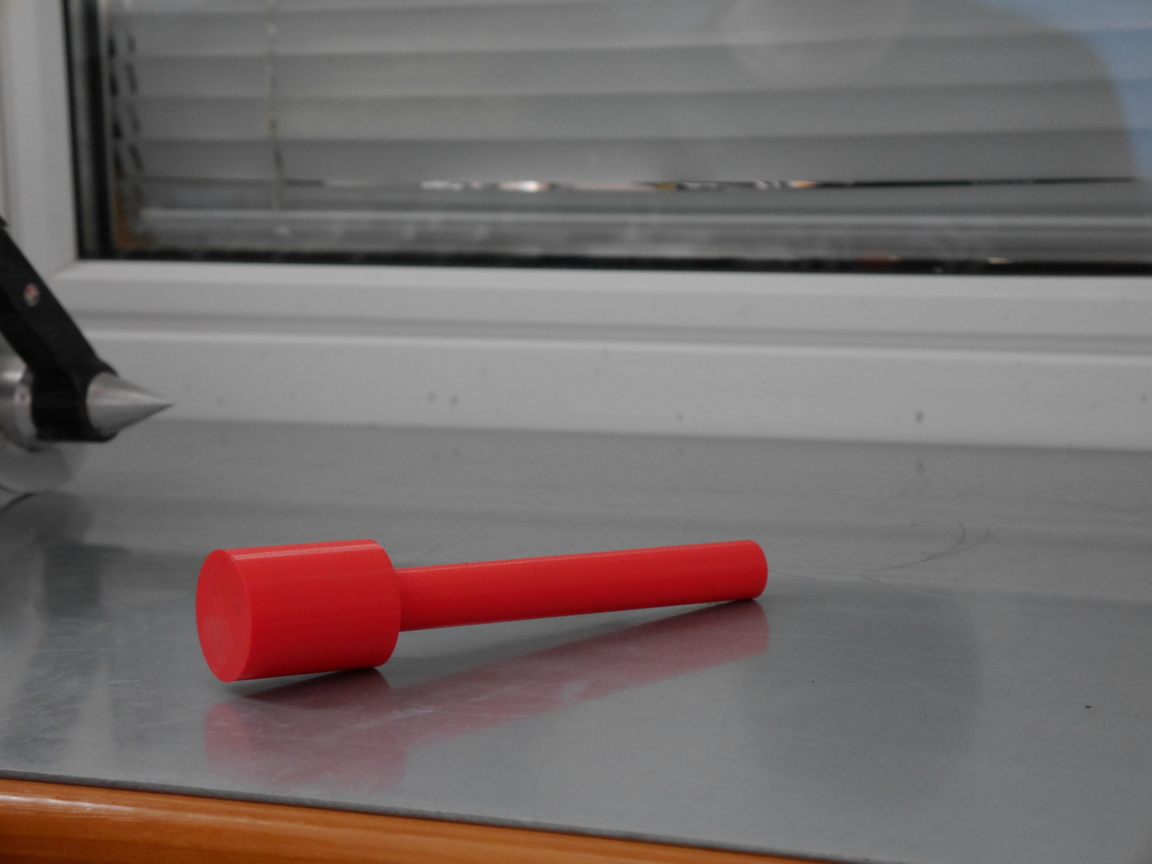cargo_g: (194, 536, 771, 681)
